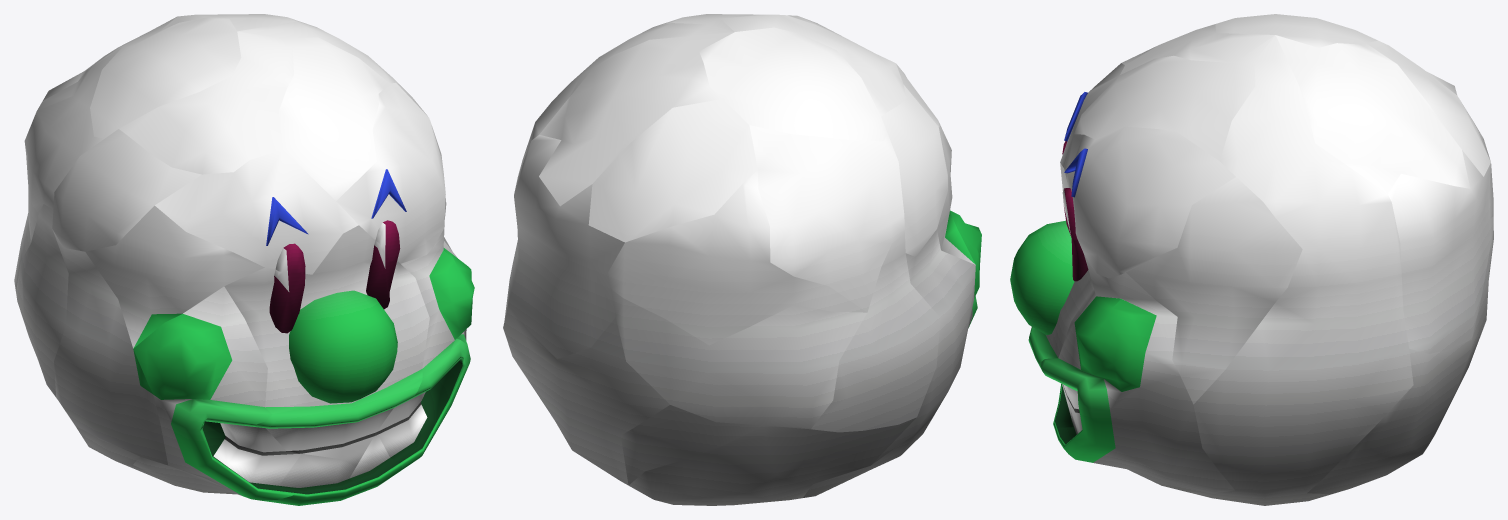
File: shattered_hatter.fbx
3 renders of one model, left to right at view 1: azimuth 30°, elevation 25°; view 2: azimuth 150°, elevation 25°; view 3: azimuth 270°, elevation 25°, orthographic. The views are drawn at different scales.
Visible parts, largest first — view 1: ClownHead_Shatter; view 2: ClownHead_Shatter; view 3: ClownHead_Shatter.
Boxes of the visible parts, x1,y1,x2,y2 form: ClownHead_Shatter: (14, 14, 474, 505); ClownHead_Shatter: (503, 14, 981, 505); ClownHead_Shatter: (1010, 14, 1493, 505).
Bounding box in the file's own units: 52.1 × 57.26 × 56.75.
